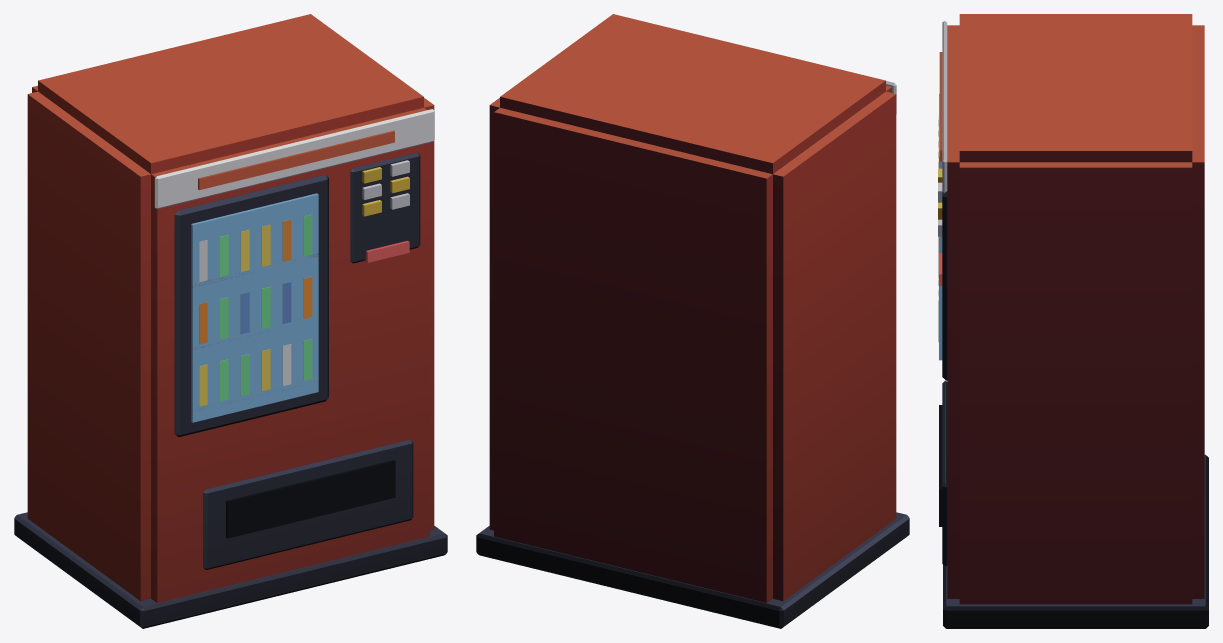
The model's file is vending_machine.glb.
3 views of the same model, side by side, from view 1: azimuth 30°, elevation 25°; view 2: azimuth 150°, elevation 25°; view 3: azimuth 270°, elevation 25° (orthographic). The views are drawn at different scales.
Parts seen in each view (by area): view 1: vending_machine; view 2: vending_machine; view 3: vending_machine.
Part boxes in pixels (x1,y1,x2,y2): vending_machine: (14, 14, 447, 628); vending_machine: (476, 14, 909, 628); vending_machine: (938, 14, 1208, 628).
Bounding box in the file's own units: 0.88 × 1.25 × 0.652.
